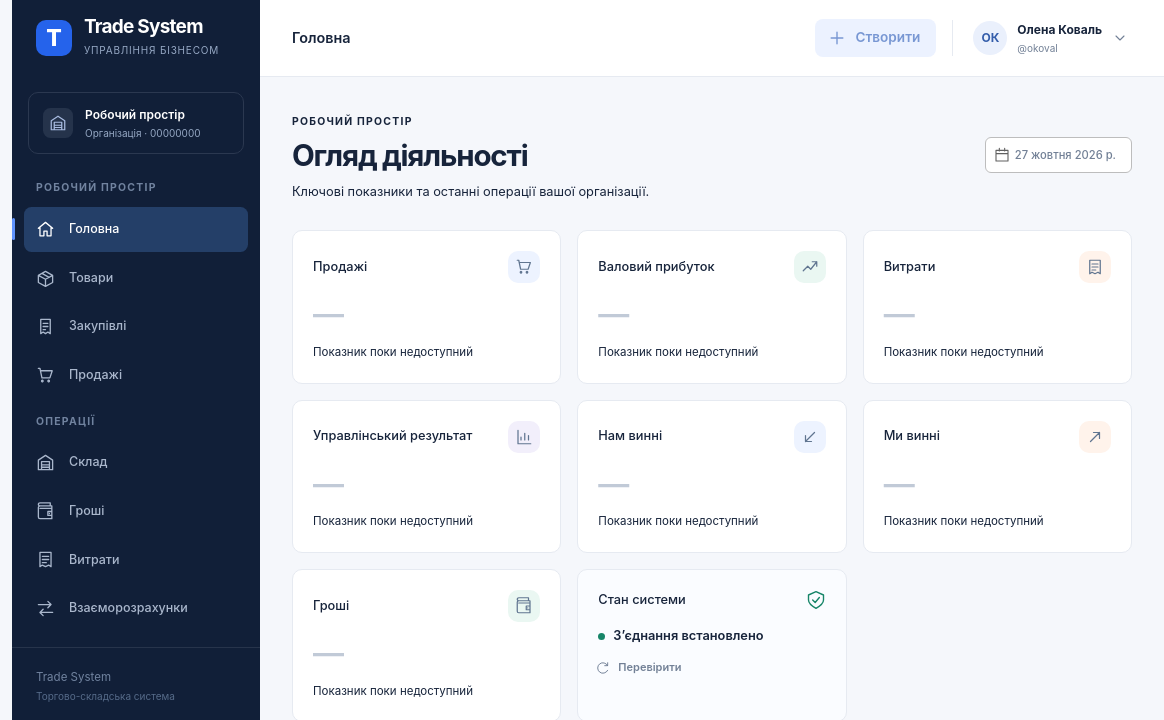
Scenario: authenticated application › logout posts a current-user CSRF token, clears cache and returns to login
The width and height of the screenshot is (1164, 720).
Expected: the heading "Огляд діяльності" is shown, [292,137,528,173]
Click the button with aria-label "Меню користувача Олена Коваль": (1051, 38) [969,14,1132,62]
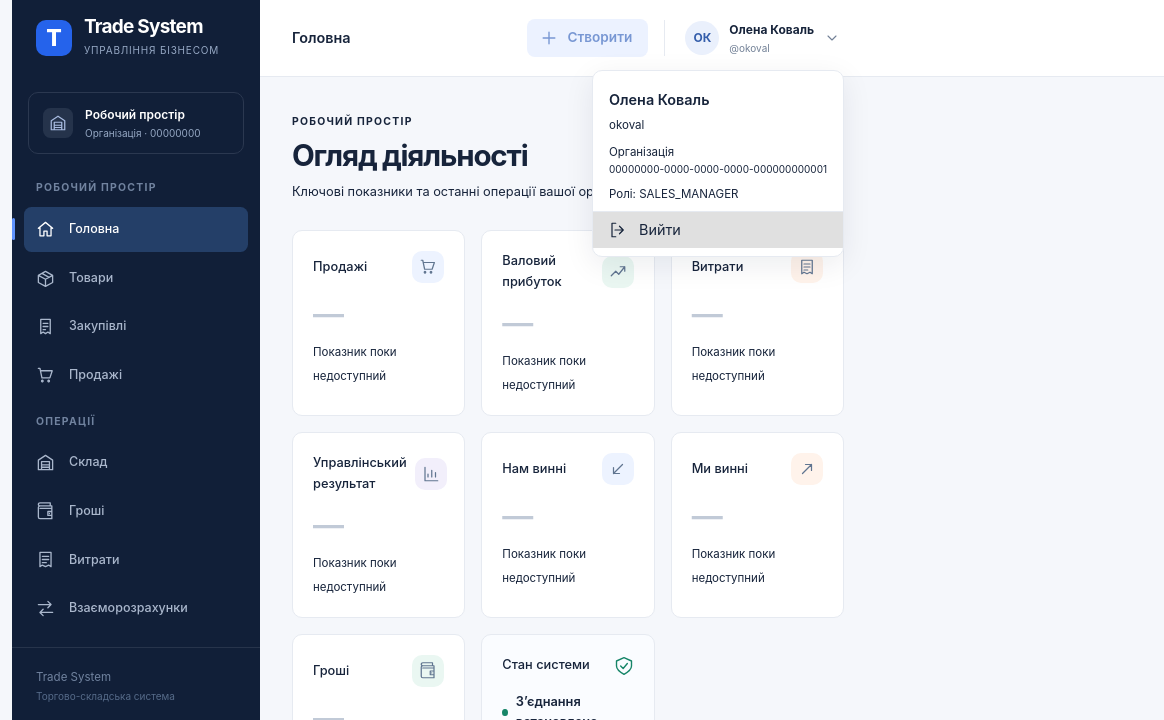
Click the menu item "Вийти": (718, 230) [593,212,843,248]
(page scrolled)
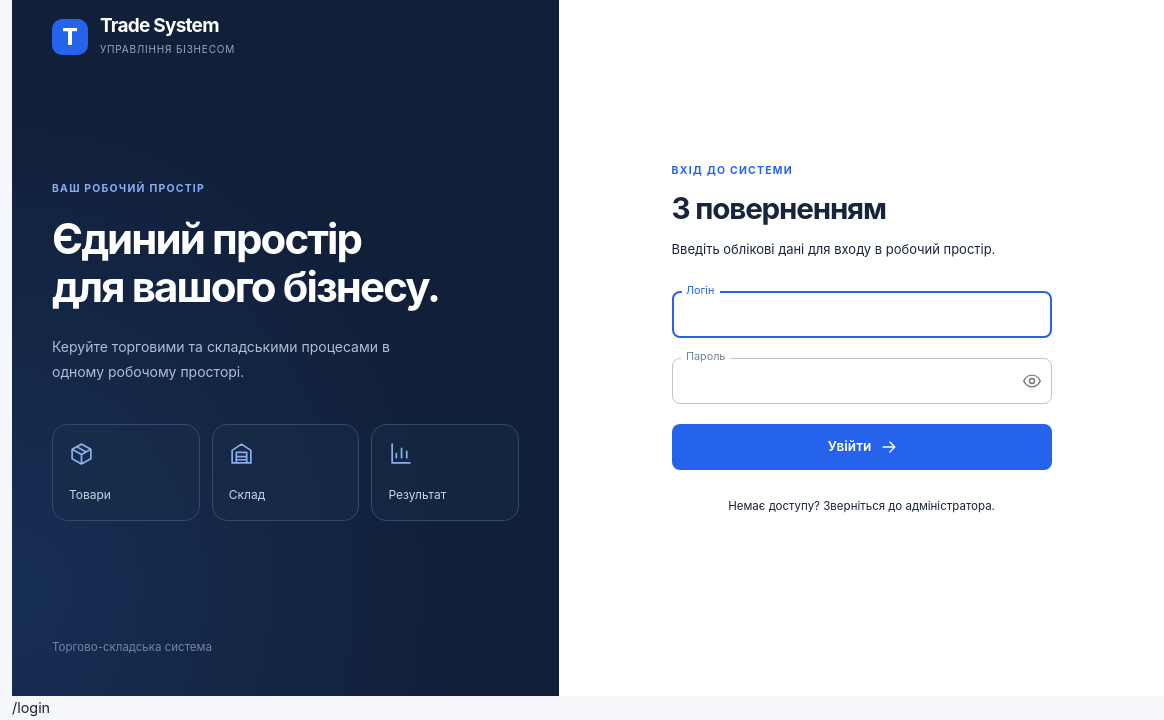
Result: the heading "З поверненням" is shown at [672,190,886,226]
Result: the text with test id "location" reads "/login" at [12,699,50,716]
